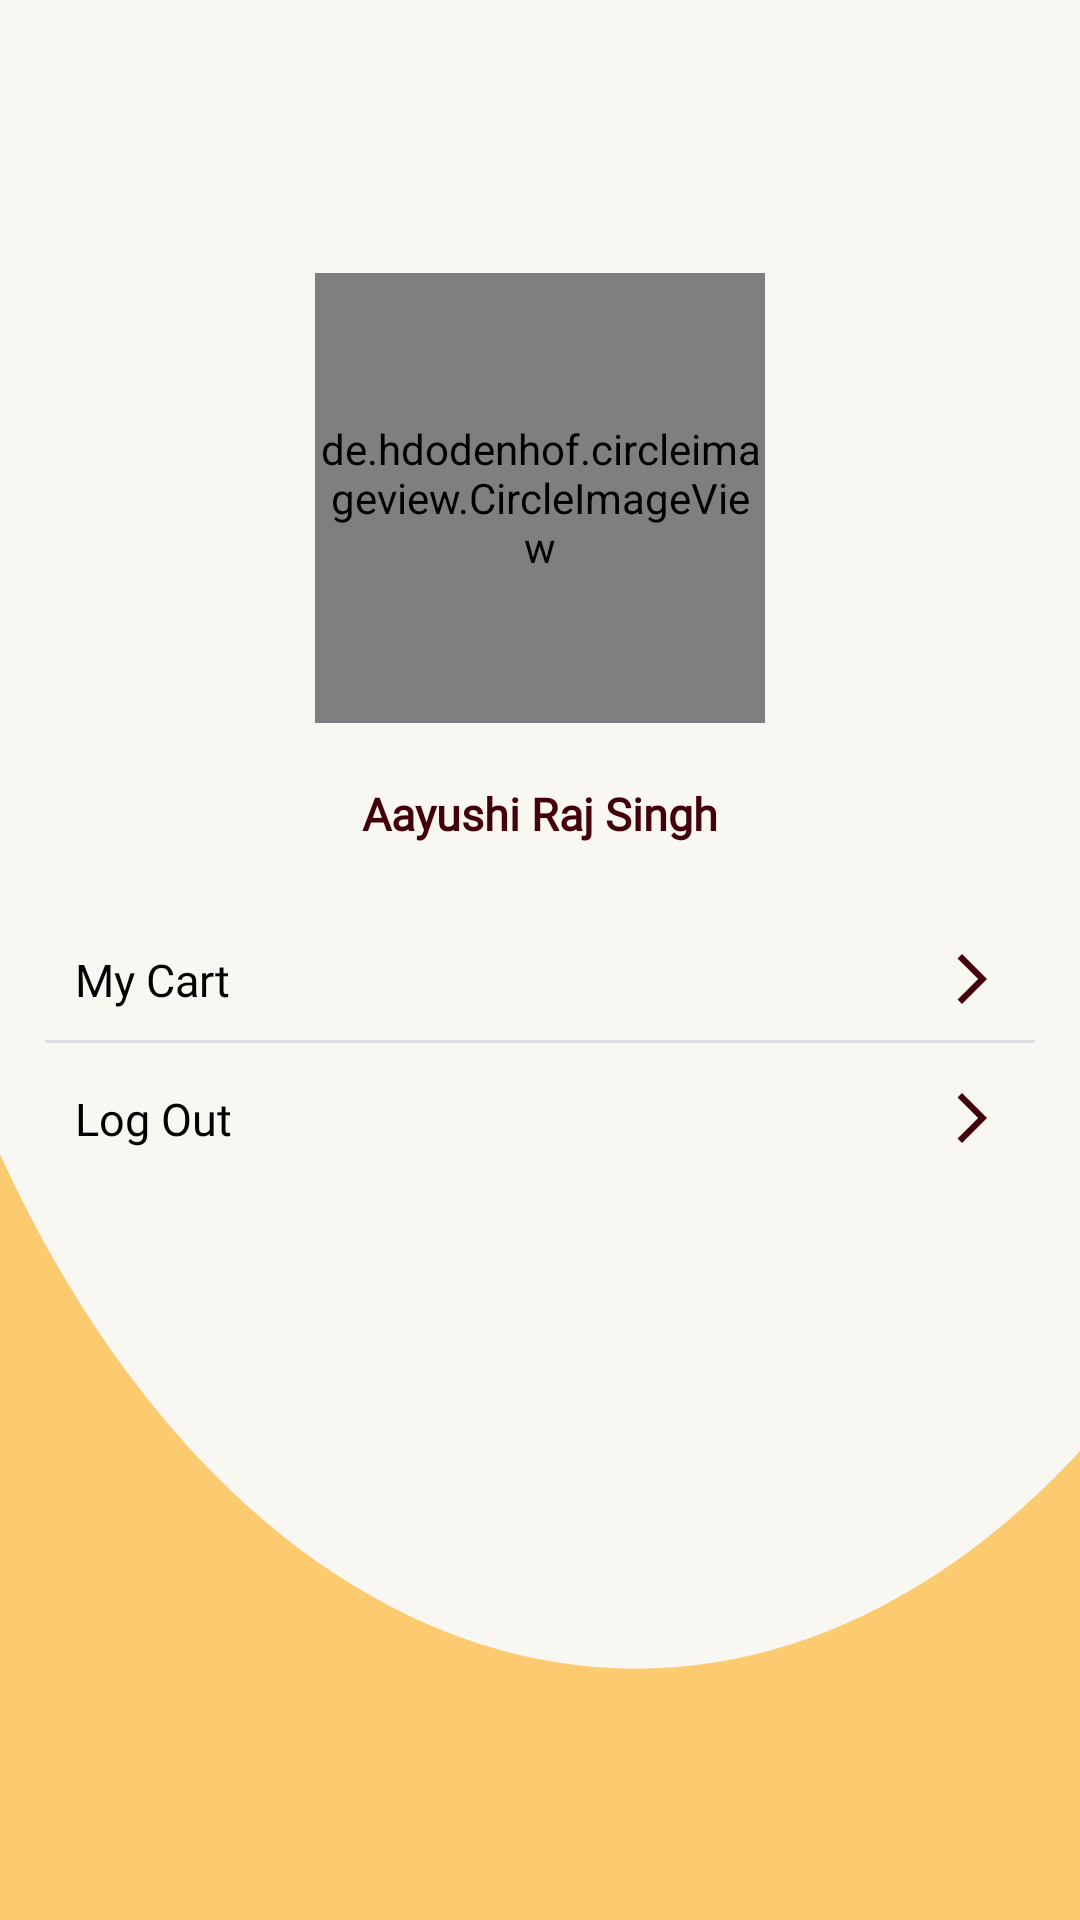

Screen size 1080 x 1920. Icon name, then its center in pixels as (x,y):
arrow forward: (972,979), (972,1118)
